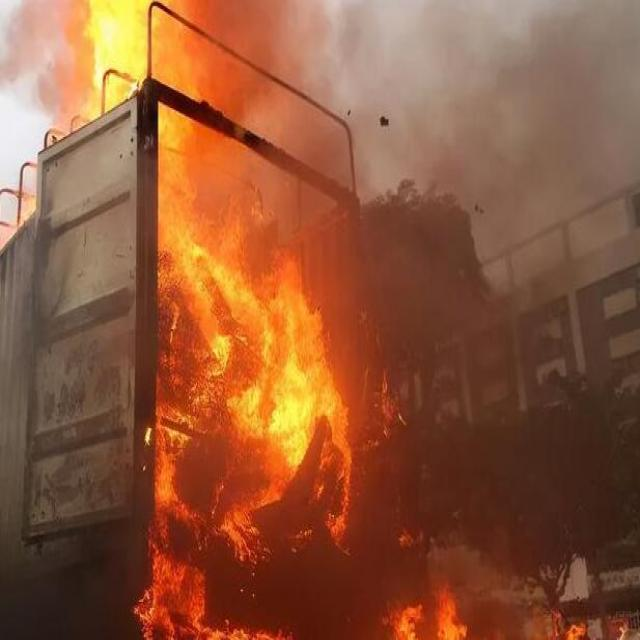Fire: (236, 359, 314, 469), (88, 0, 144, 79)
